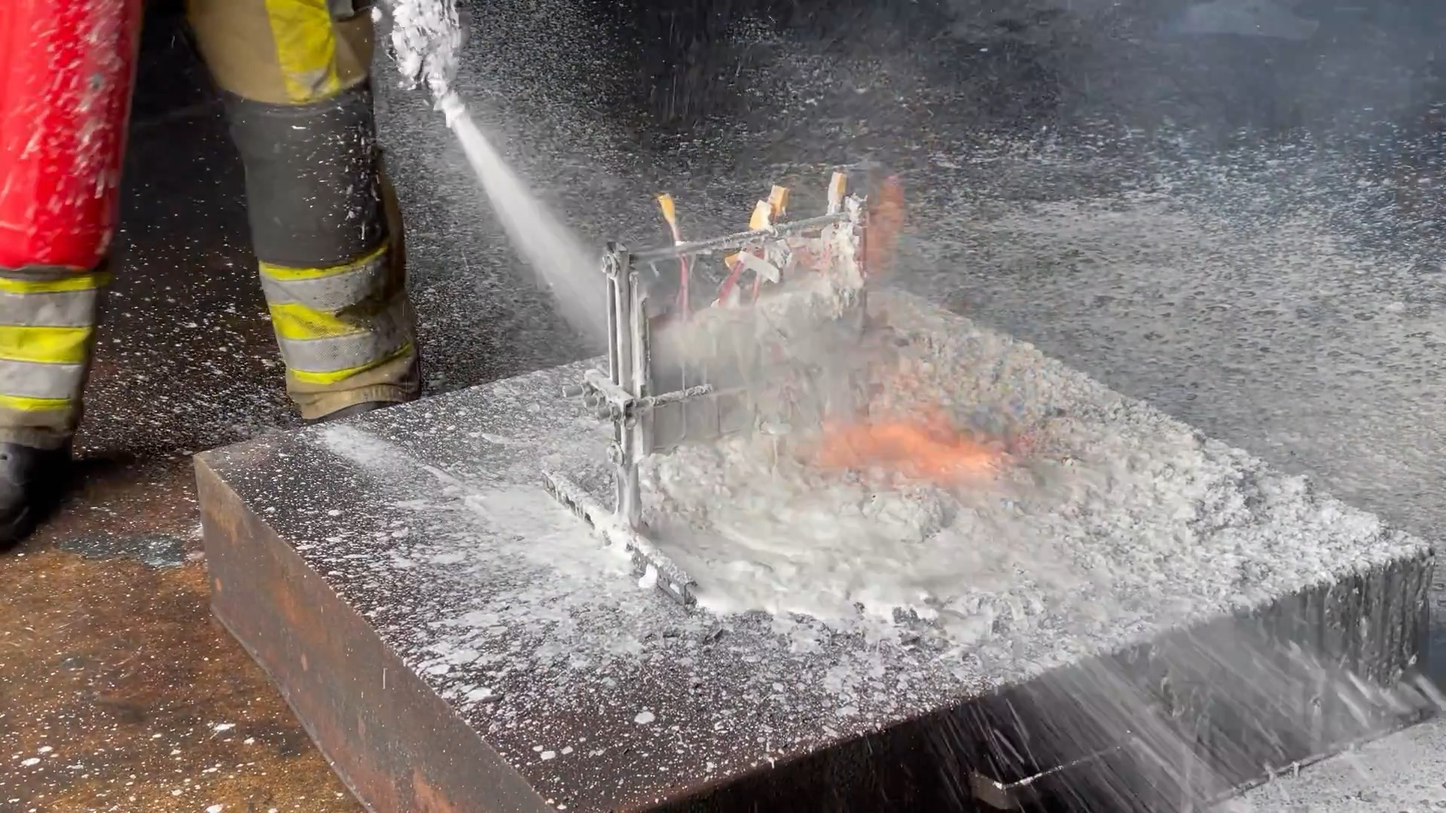fire: (806, 394, 1027, 491), (863, 170, 913, 279)
